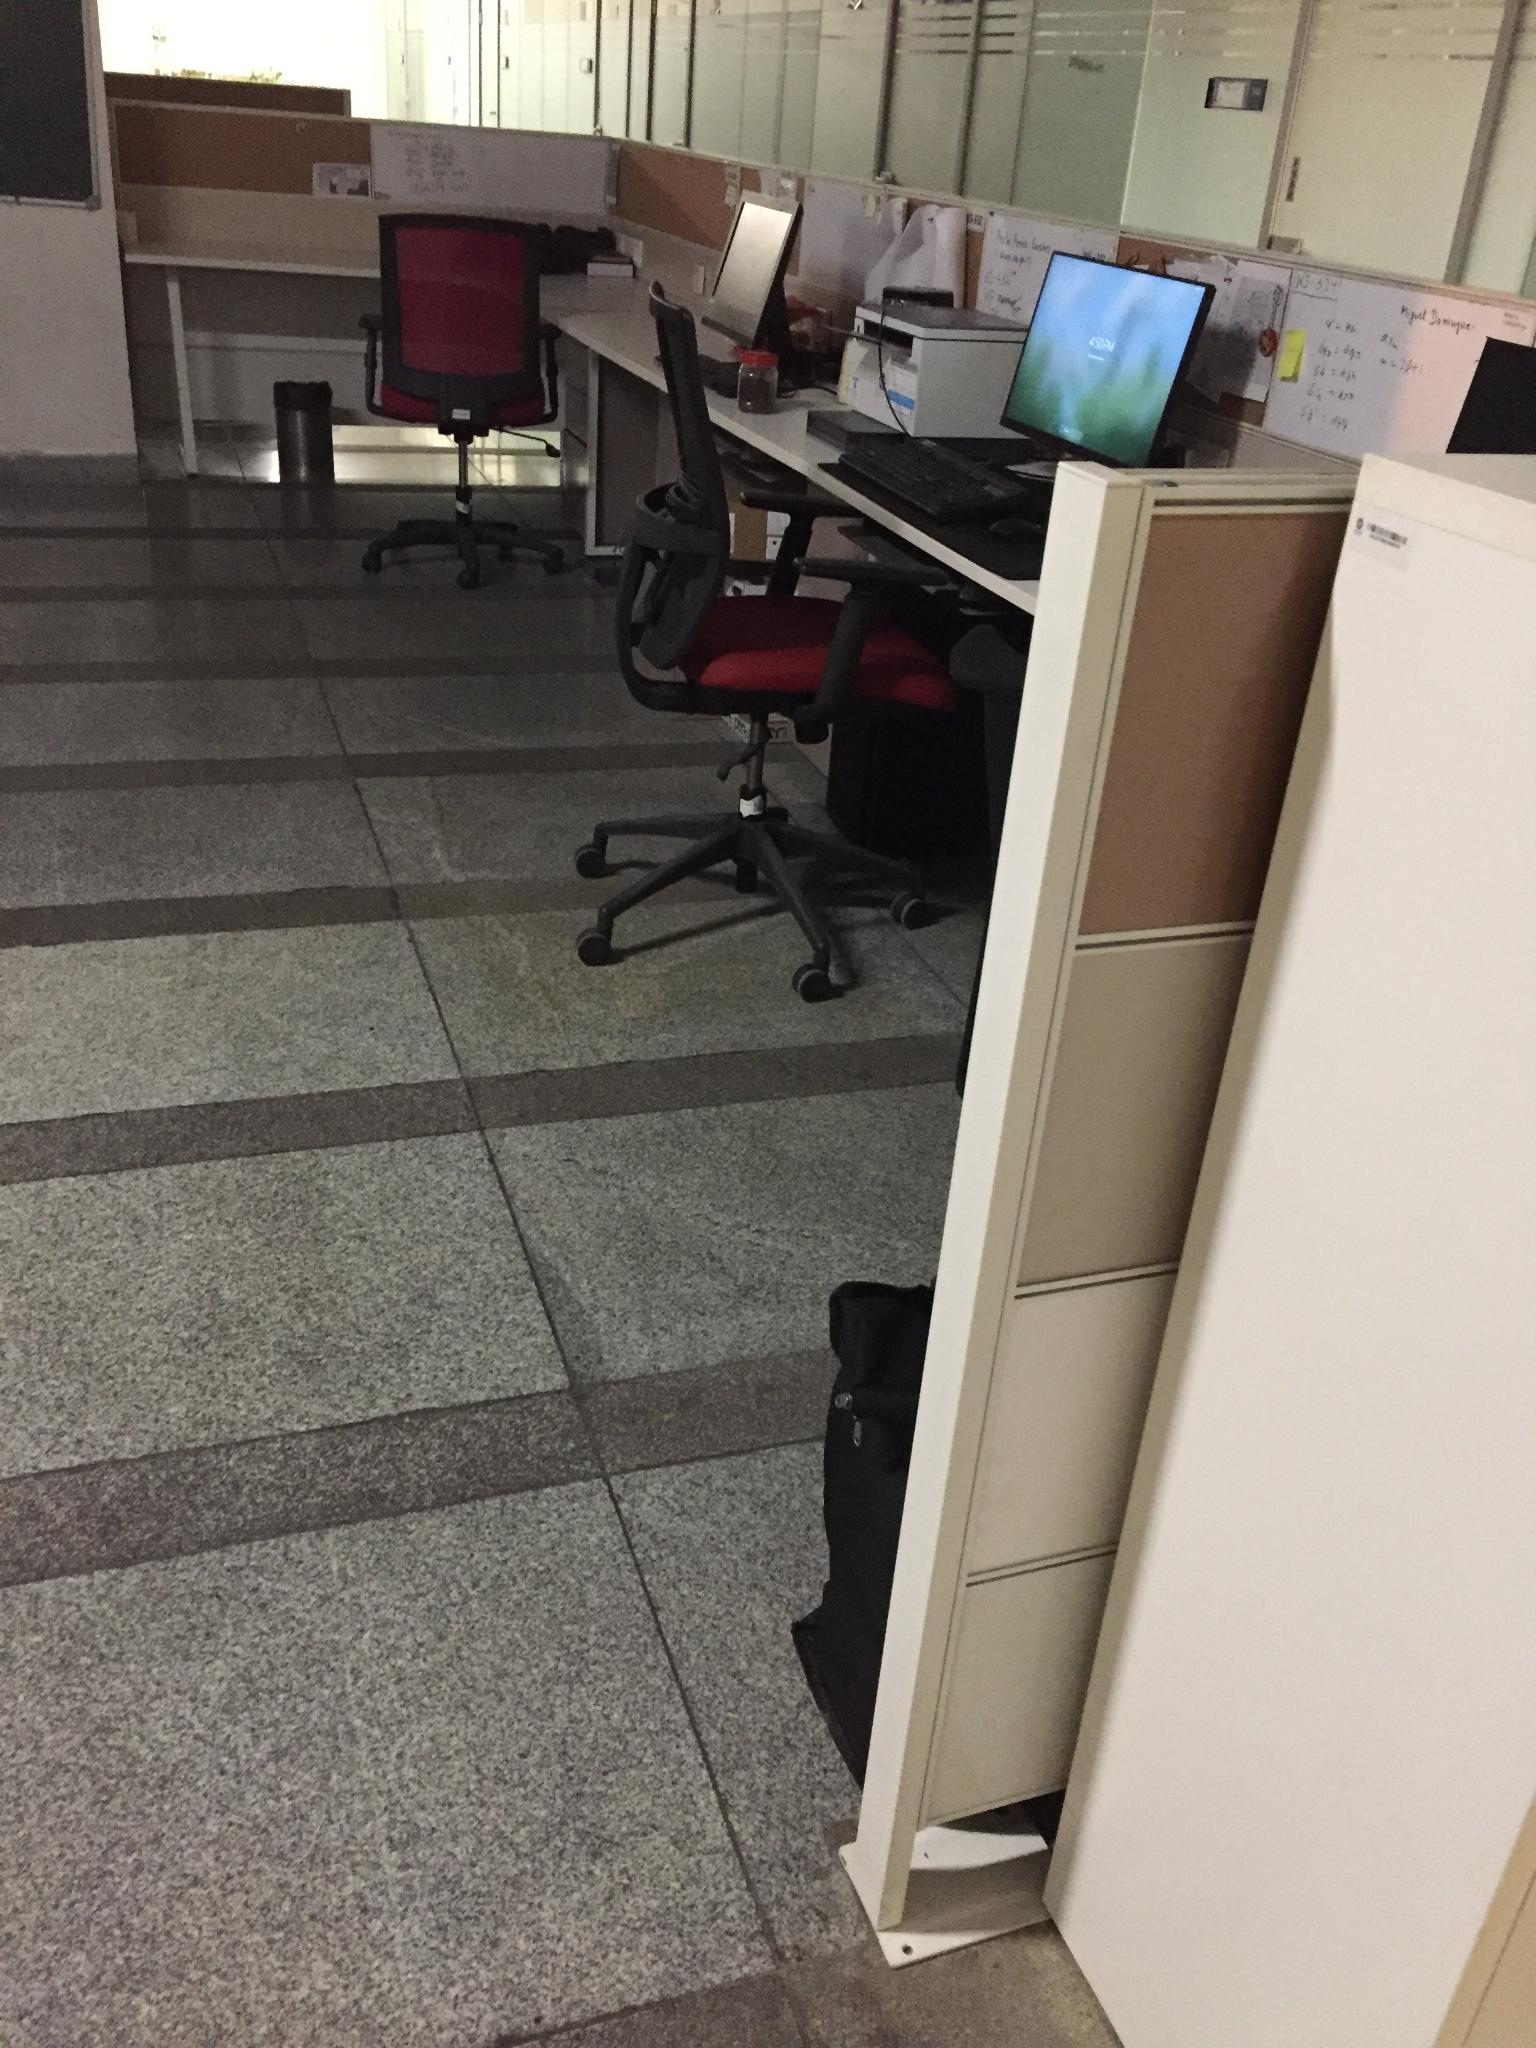chair: (573, 277, 960, 1001), (357, 211, 570, 589)
